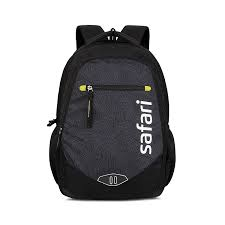backpack: (47, 23, 175, 200)
